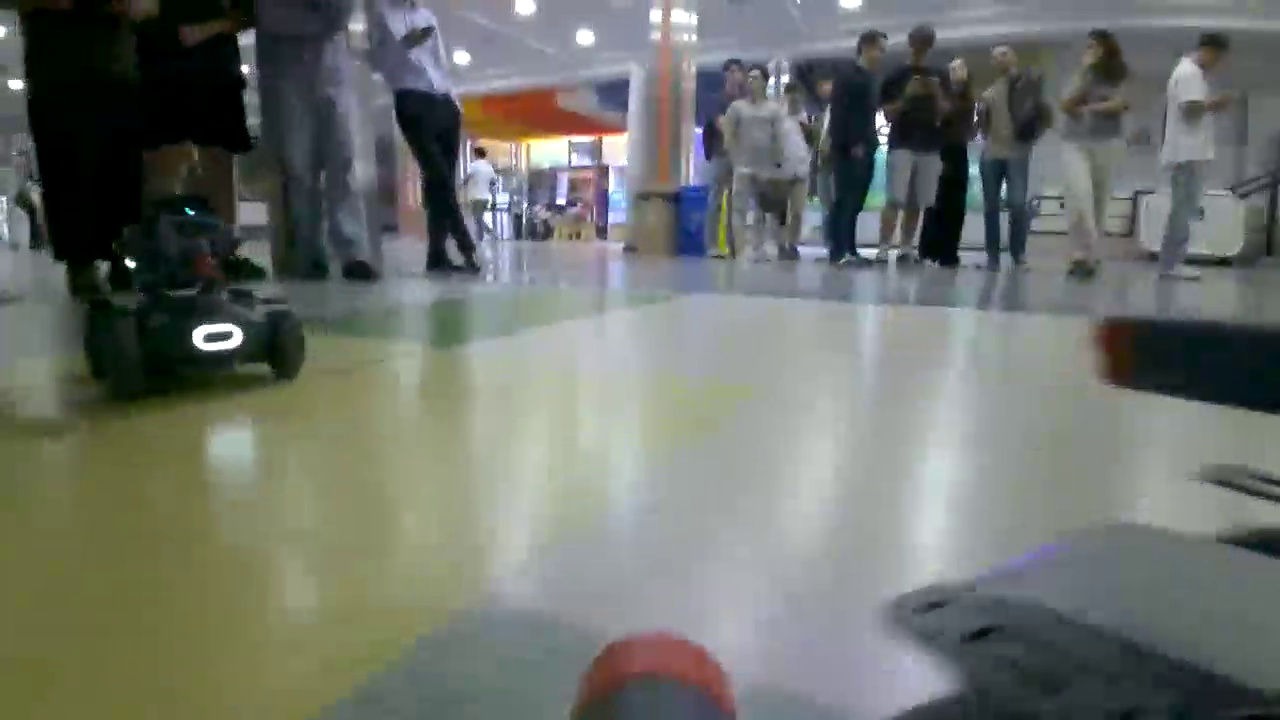robot: (880, 271, 1280, 720), (88, 204, 305, 378)
